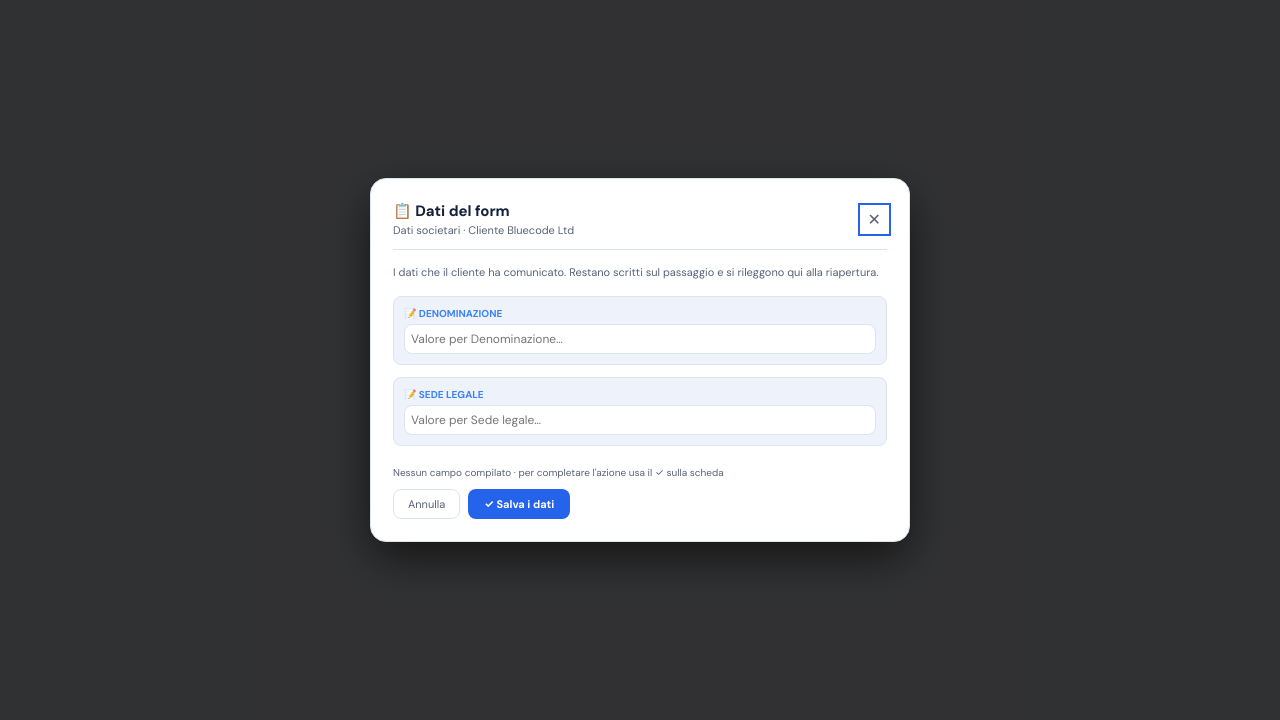
Test case: ModaleFormPassaggio — il conteggio dice una cosa vera › conta i campi compilati e non dichiara concluso il passaggio
The image size is (1280, 720).
Expected: the text "Nessun campo compilato" is shown, [393, 466, 511, 478]
Type "Bluecode Ltd" into the field labelled "📝 Denominazione" at (640, 338), box [404, 324, 876, 354]
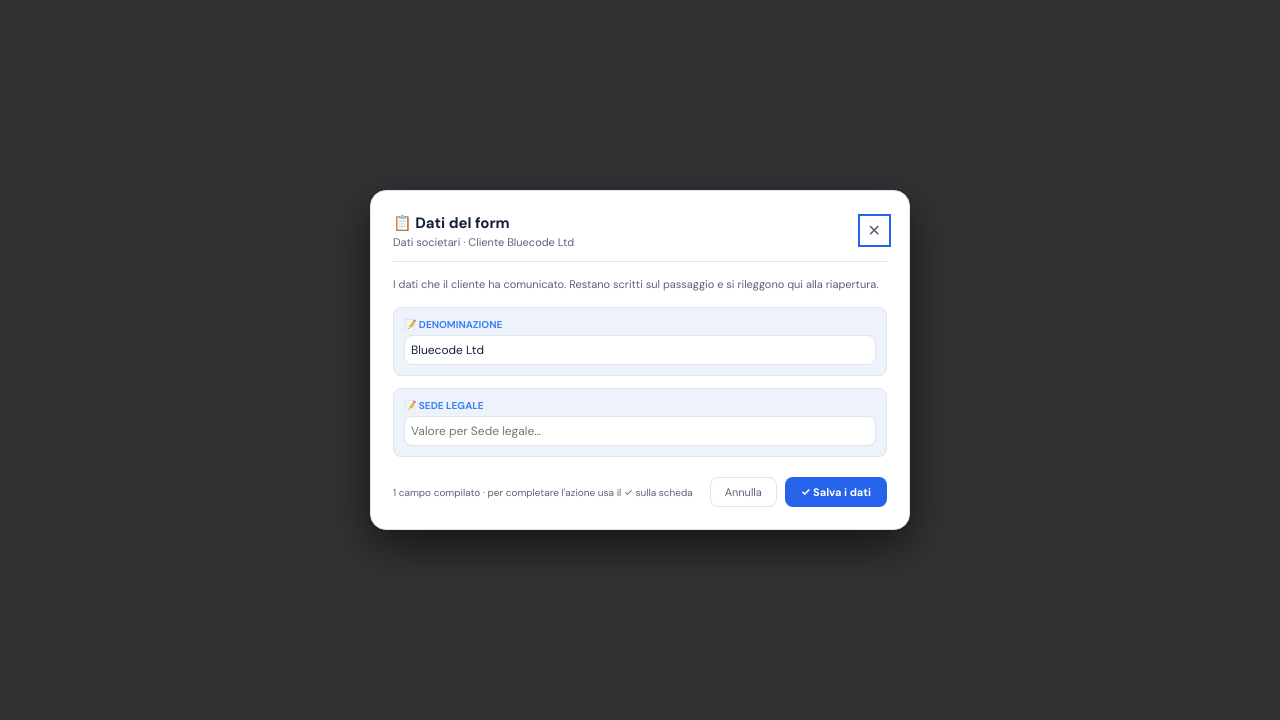
Expected: the text "usa il ✓ sulla scheda" is shown, [488, 486, 693, 498]
Result: the text "1 campo compilato" is shown at [393, 486, 480, 498]
